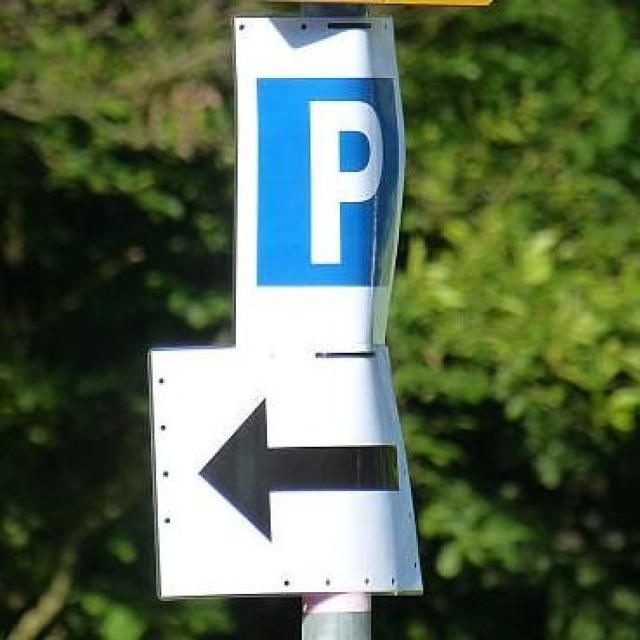obstructed_road_sign: (148, 349, 421, 596), (256, 78, 404, 286)
